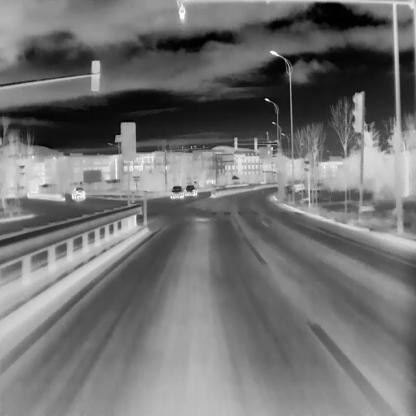car: (70, 186, 85, 200), (169, 185, 184, 199), (184, 184, 197, 196)
